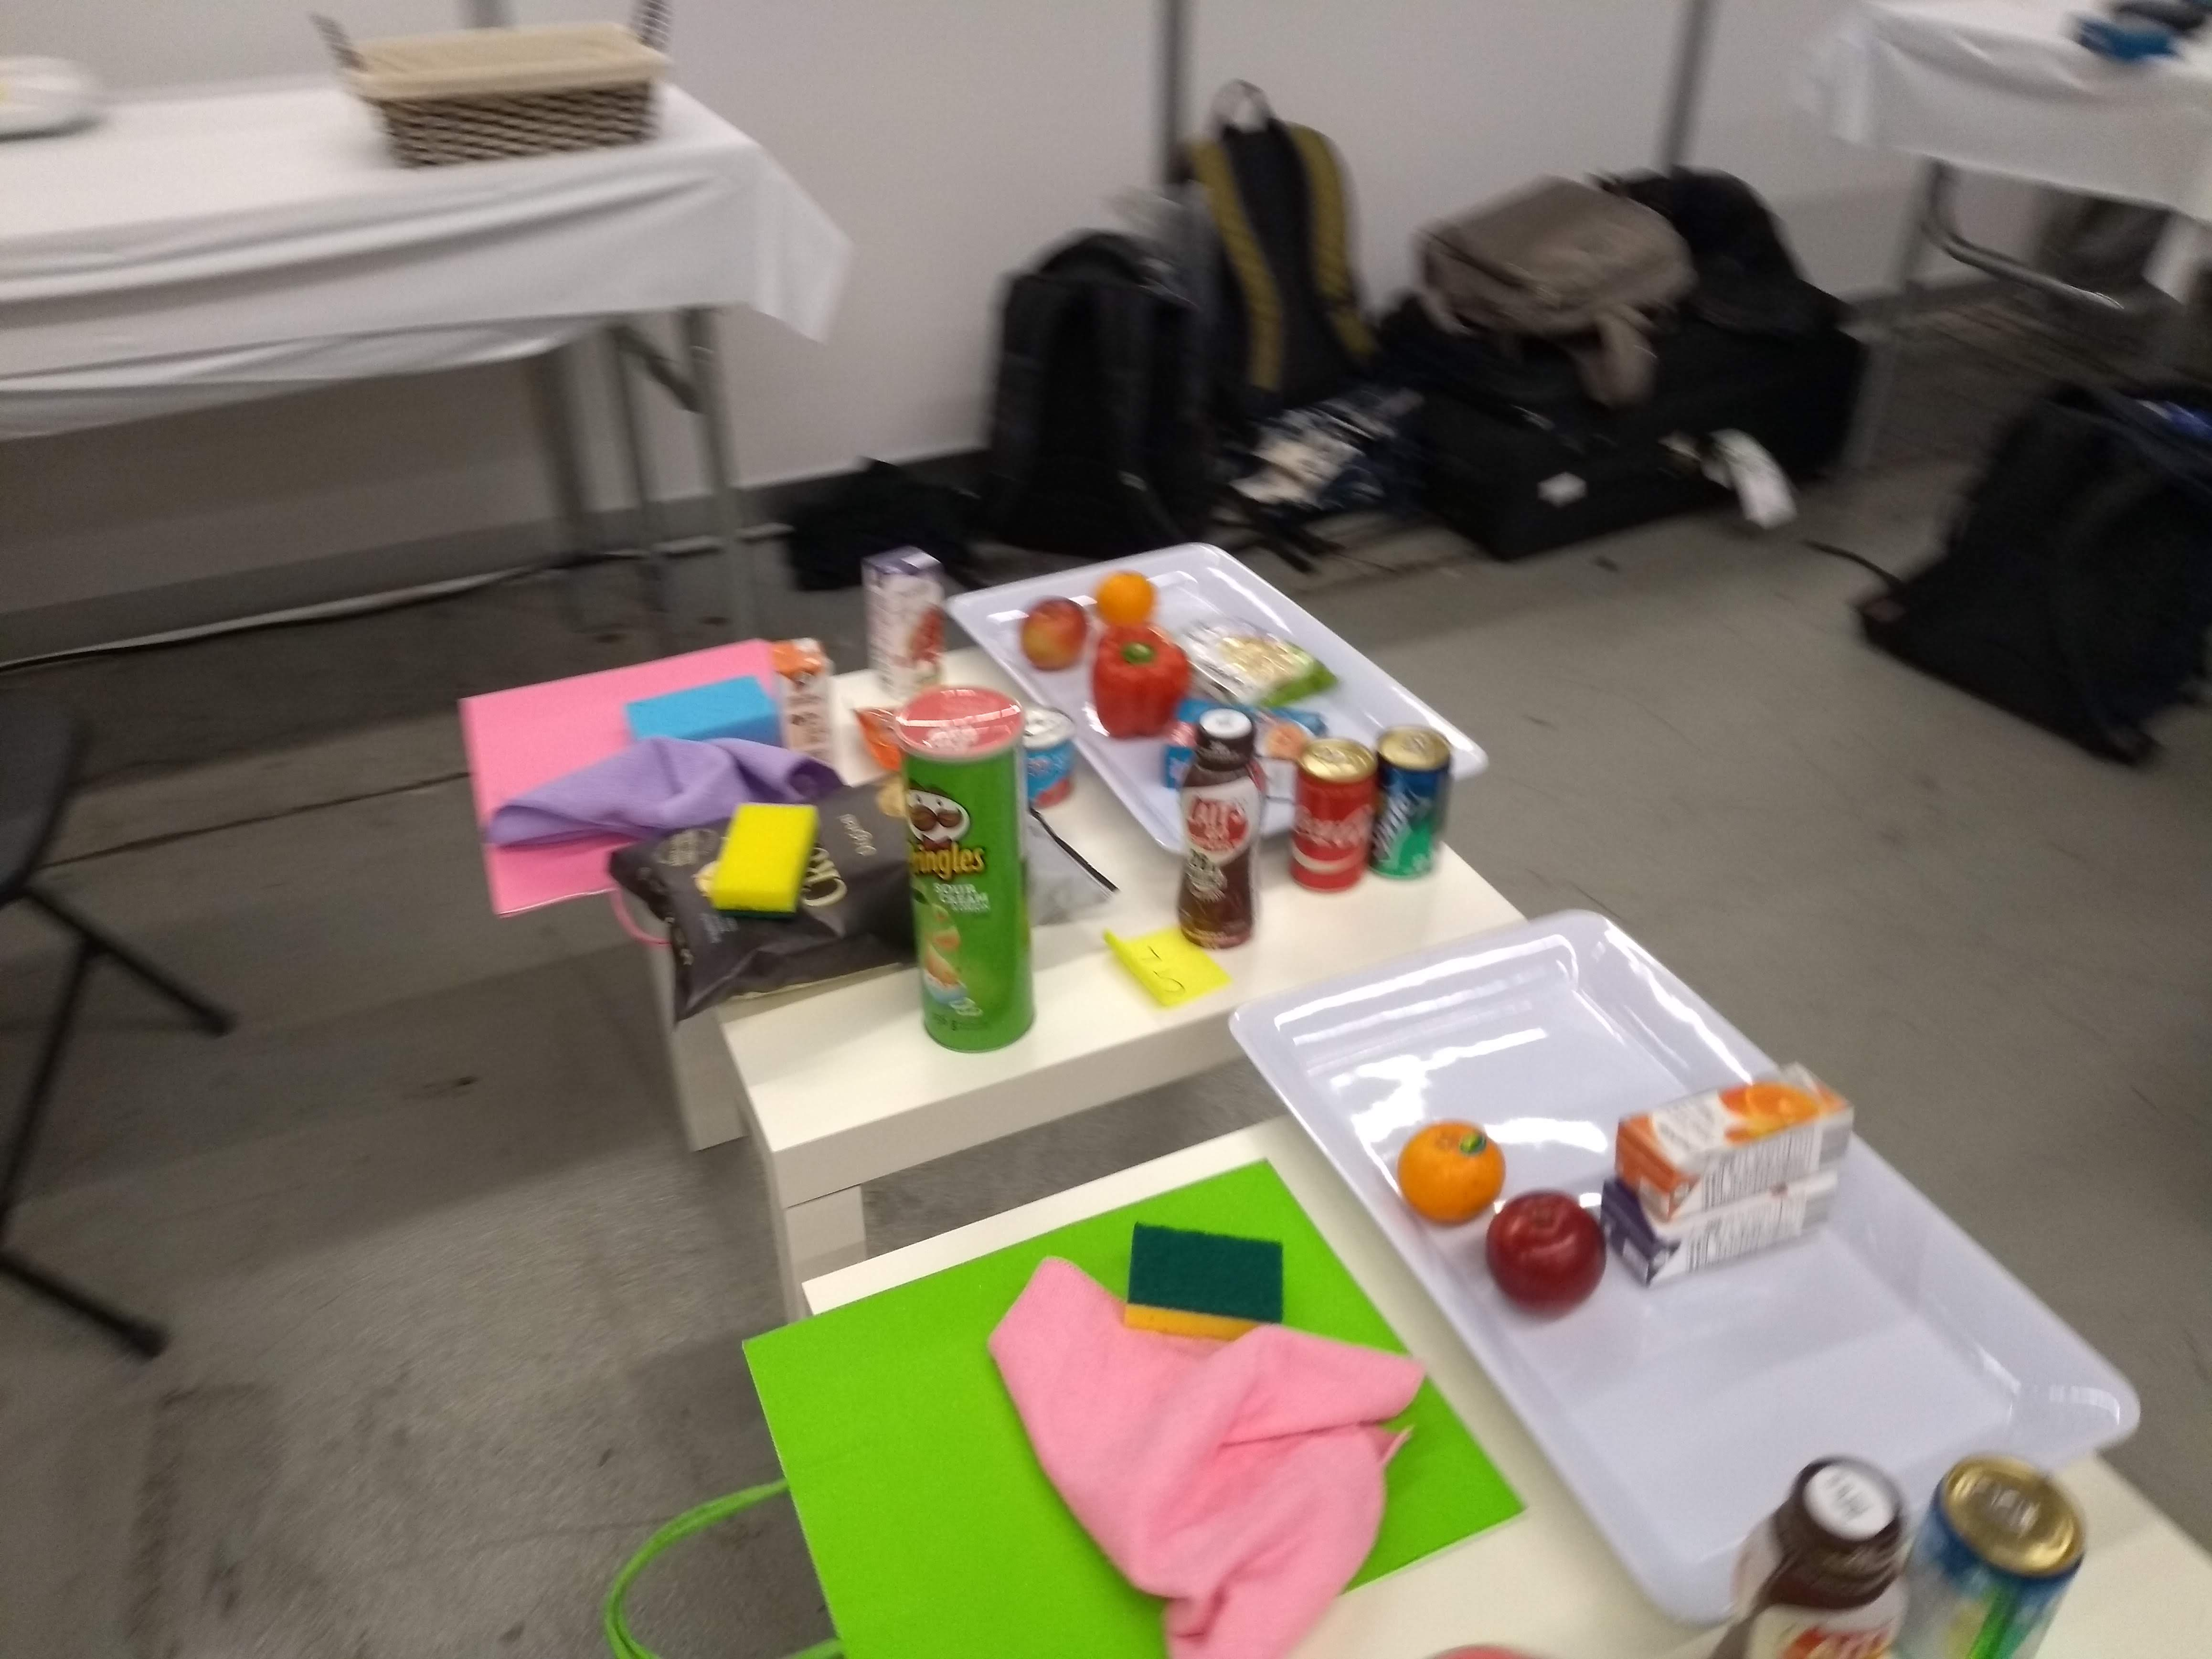apple: (1474, 1183, 1615, 1324), (1014, 587, 1094, 681)
chocolate_drink: (1169, 706, 1275, 953)
coke: (1282, 735, 1383, 903)
grape_juice: (860, 538, 948, 692)
orange: (1399, 1115, 1508, 1234), (1097, 573, 1165, 634)
paprika: (1092, 631, 1190, 742)
pringles: (890, 681, 1052, 1070)
scrubby: (1120, 1220, 1292, 1342), (704, 796, 831, 925)
sprite: (1359, 716, 1463, 884)
